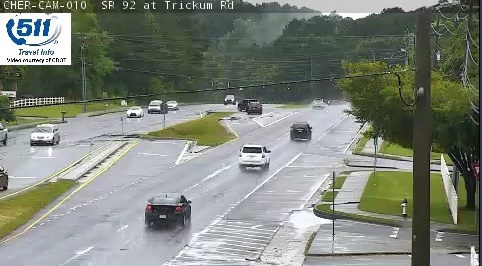car: (145, 194, 192, 222), (238, 145, 270, 167), (290, 122, 311, 140)
